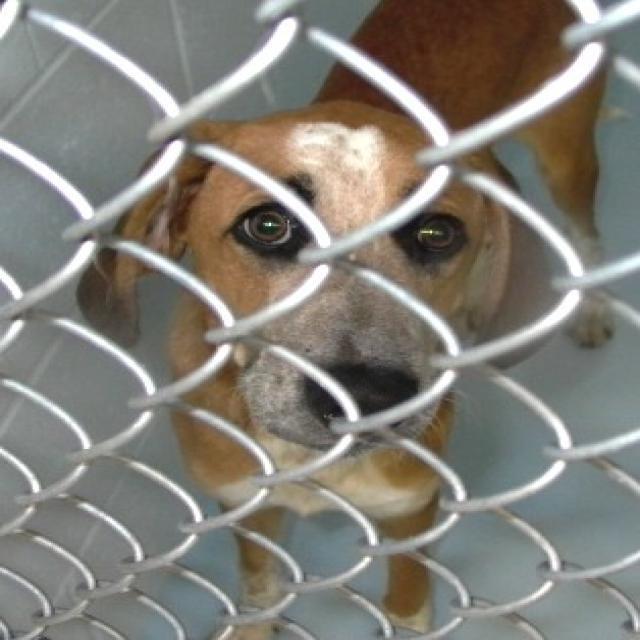dogs: (73, 0, 618, 640)
